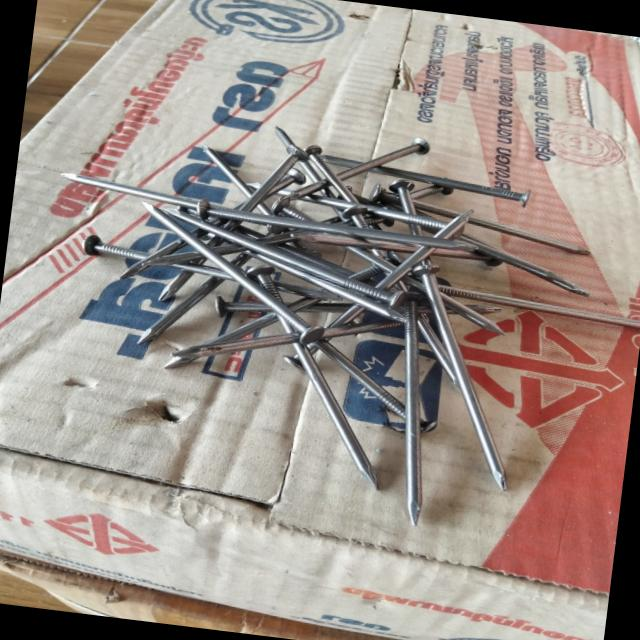3x10 nail: (332, 246, 562, 548), (96, 197, 342, 350), (177, 182, 488, 274)
